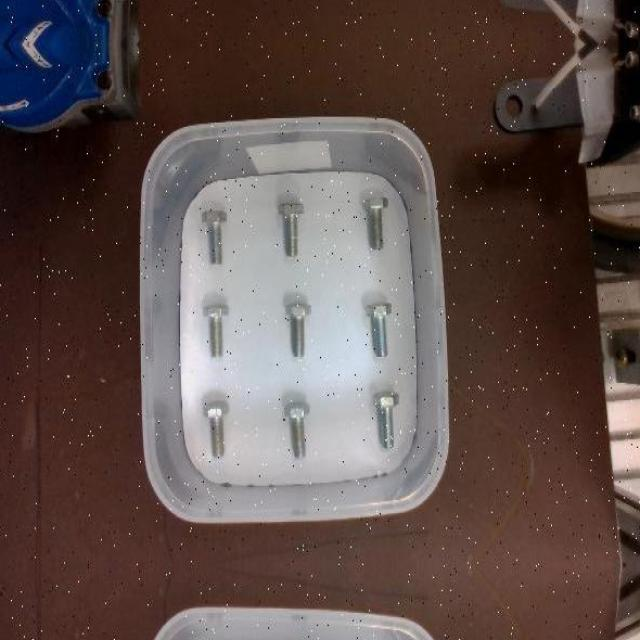screw: (372, 390, 399, 450), (204, 401, 230, 458), (278, 202, 305, 255), (284, 401, 309, 458), (366, 302, 392, 356), (286, 303, 312, 356), (364, 195, 389, 249), (204, 302, 229, 356), (202, 211, 226, 264)
